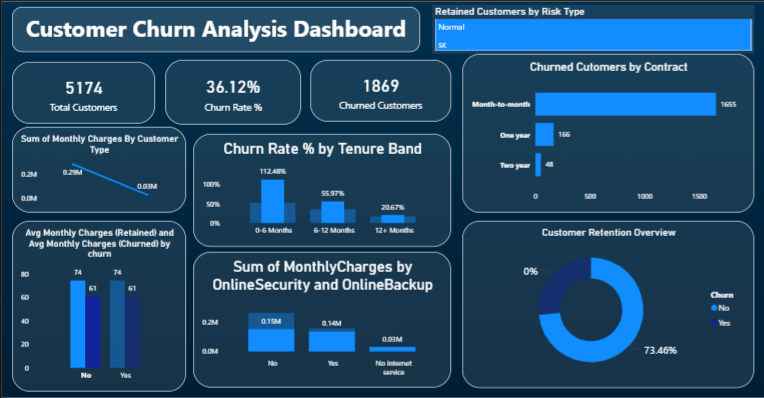

Layout of this report page (visuals, bound fields, positions):
{"tool":"powerbi","page":{"name":"Page 1","canvas":[1280,720],"ordinal":0},"visuals":[{"type":"textbox","box":[16.8,63.8,685.4,75.6],"z":0},{"type":"treemap","fields":{"Values":["Calculated Measure.Retained Customers"],"Group":["WA_Fn-UseC_-Telco-Customer-Churn.Risk Type"]},"box":[722.3,60.5,540.9,82.3],"z":1},{"type":"card","fields":{"Values":["Calculated Measure.Total Customers"]},"box":[16.8,156.2,240.2,104.1],"z":2},{"type":"card","fields":{"Values":["Calculated Measure.Churn Rate %"]},"box":[273.8,152.9,228.5,109.2],"z":3},{"type":"card","fields":{"Values":["Calculated Measure.Churned Customers"]},"box":[517.4,152.9,236.9,104.1],"z":4},{"type":"donutChart","title":"Customer Retention Overview","fields":{"Y":["Calculated Measure.Total Customers"],"Category":["WA_Fn-UseC_-Telco-Customer-Churn.Churn"]},"box":[772.7,423.3,490.5,280.5],"z":5},{"type":"barChart","title":"Churned Cutomers by Contract","fields":{"Category":["WA_Fn-UseC_-Telco-Customer-Churn.Contract"],"Y":["Calculated Measure.Churned Customers"]},"box":[772.7,142.8,490.5,267.1],"z":6},{"type":"columnChart","title":"Sum of MonthlyCharges by OnlineSecurity and OnlineBackup","fields":{"Category":["WA_Fn-UseC_-Telco-Customer-Churn.OnlineSecurity"],"Y":["Sum(WA_Fn-UseC_-Telco-Customer-Churn.MonthlyCharges)"]},"box":[320.8,475.4,433.4,228.5],"z":7},{"type":"columnChart","title":"Churn Rate % by Tenure Band","fields":{"Y":["Calculated Measure.Churn Rate %"],"Category":["WA_Fn-UseC_-Telco-Customer-Churn.Tenure Band"]},"box":[320.8,277.2,433.4,189.8],"z":8},{"type":"clusteredColumnChart","title":"Avg Monthly Charges (Retained) and Avg Monthly Charges (Churned) by churn","fields":{"Category":["WA_Fn-UseC_-Telco-Customer-Churn.Churn"],"Y":["Calculated Measure.Avg Monthly Charges (Churned)","Calculated Measure.Avg Monthly Charges (Retained)"]},"box":[16.8,423.3,292.3,287.2],"z":9},{"type":"lineChart","title":"Sum of Monthly Charges By Customer Type ","fields":{"Category":["WA_Fn-UseC_-Telco-Customer-Churn.Customer Type"],"Y":["Sum(WA_Fn-UseC_-Telco-Customer-Churn.MonthlyCharges)"]},"box":[16.8,265.4,292.3,144.5],"z":10}]}

Visuals, with their boxes in screenshot pixels (x1, y1, x2, y2):
textbox: 16/12/417/56
treemap - Calculated Measure.Retained Customers x WA_Fn-UseC_-Telco-Customer-Churn.Risk Type: 429/10/746/58
card - Calculated Measure.Total Customers: 16/66/157/127
card - Calculated Measure.Churn Rate %: 166/64/300/128
card - Calculated Measure.Churned Customers: 309/64/448/125
"Customer Retention Overview" donutChart: 459/222/746/386
"Churned Cutomers by Contract" barChart: 459/58/746/214
"Sum of MonthlyCharges by OnlineSecurity and OnlineBackup" columnChart: 194/253/448/386
"Churn Rate % by Tenure Band" columnChart: 194/137/448/248
"Avg Monthly Charges (Retained) and Avg Monthly Charges (Churned) by churn" clusteredColumnChart: 16/222/187/390
"Sum of Monthly Charges By Customer Type " lineChart: 16/130/187/214
